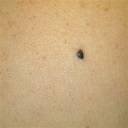Melanoma: (75, 48, 85, 60)
